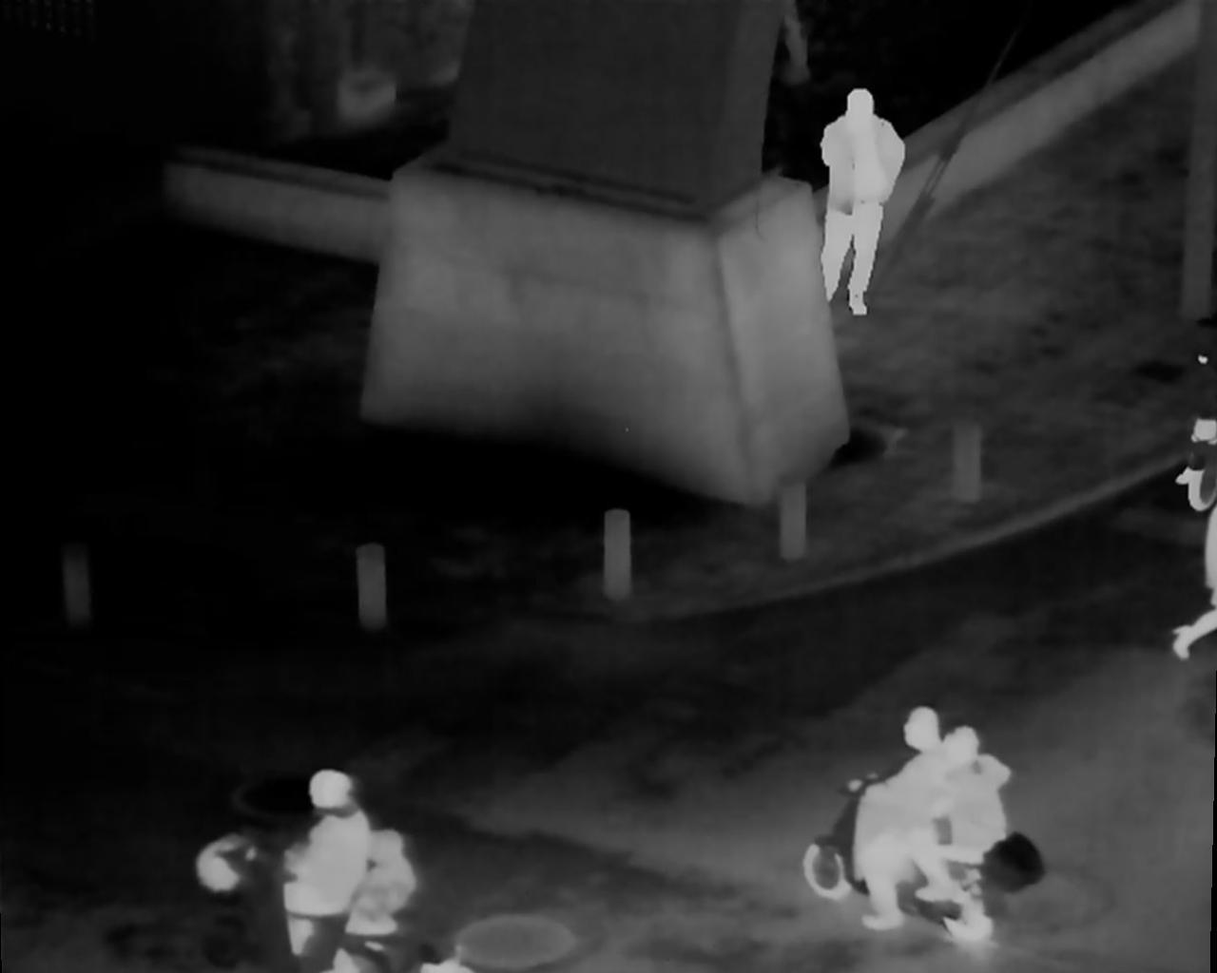person: (852, 702, 950, 930), (267, 767, 375, 959), (819, 87, 902, 317), (937, 726, 1011, 930), (351, 824, 417, 944)
